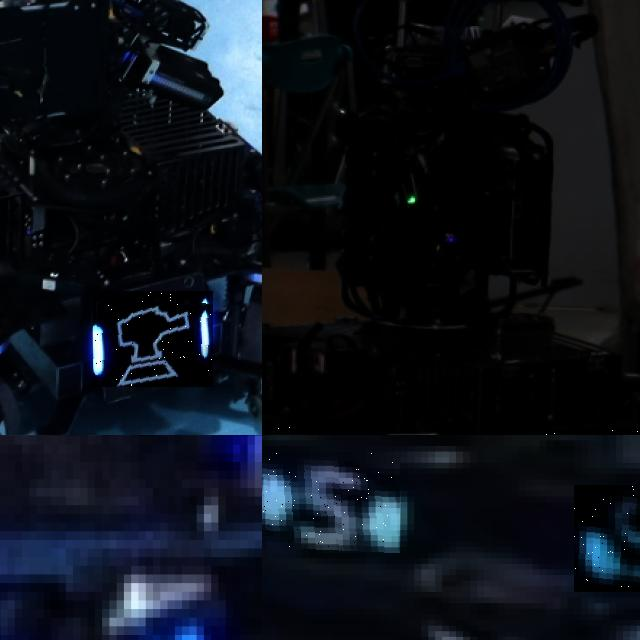B5: (262, 451, 400, 552), (574, 485, 640, 591)
Bs: (93, 291, 213, 387)
